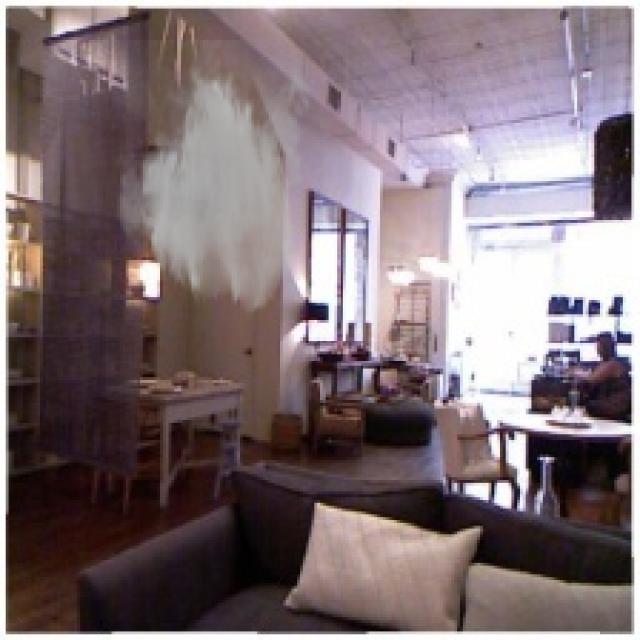Smoke: (111, 40, 318, 317)
